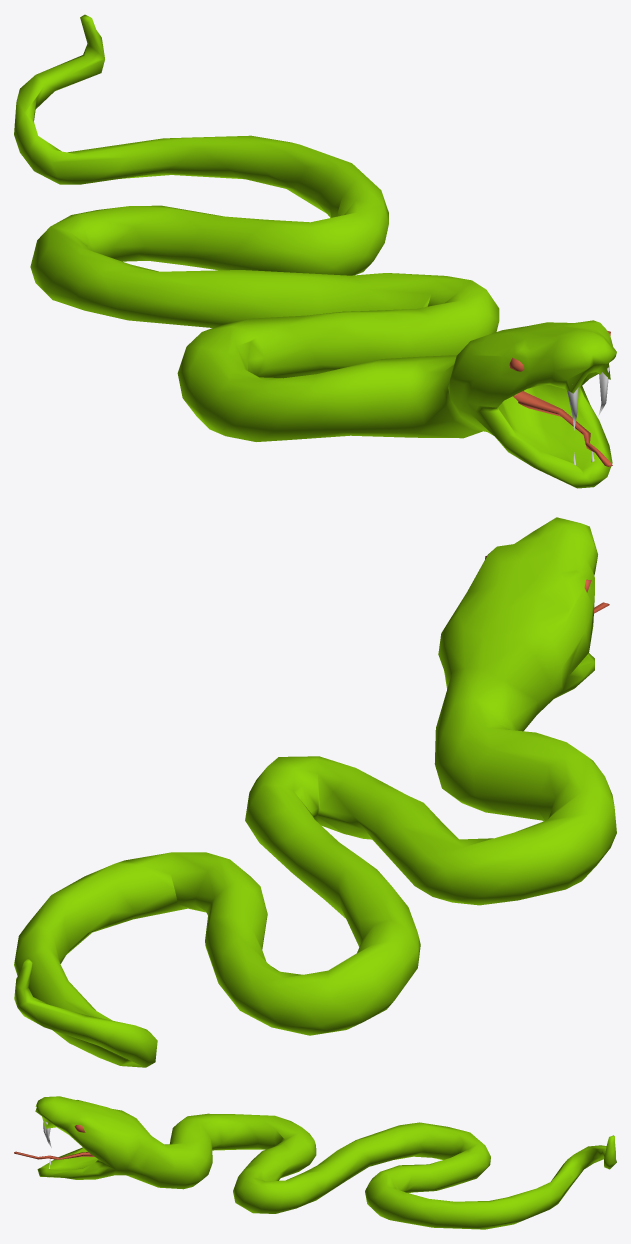
File: vivora.fbx
The picture shows the model from 3 angles, top to bottom: view 1: azimuth 30°, elevation 25°; view 2: azimuth 150°, elevation 25°; view 3: azimuth 270°, elevation 25°; orthographic projection. The views are drawn at different scales.
Visible parts, largest first — view 1: PM3D_ZSphere_5.008; view 2: PM3D_ZSphere_5.008; view 3: PM3D_ZSphere_5.008.
Boxes of the visible parts, x1,y1,x2,y2 form: PM3D_ZSphere_5.008: (14,14,616,488); PM3D_ZSphere_5.008: (14,517,616,1067); PM3D_ZSphere_5.008: (14,1096,616,1229).
Size of the model in its own units: 278 by 144 by 751.
